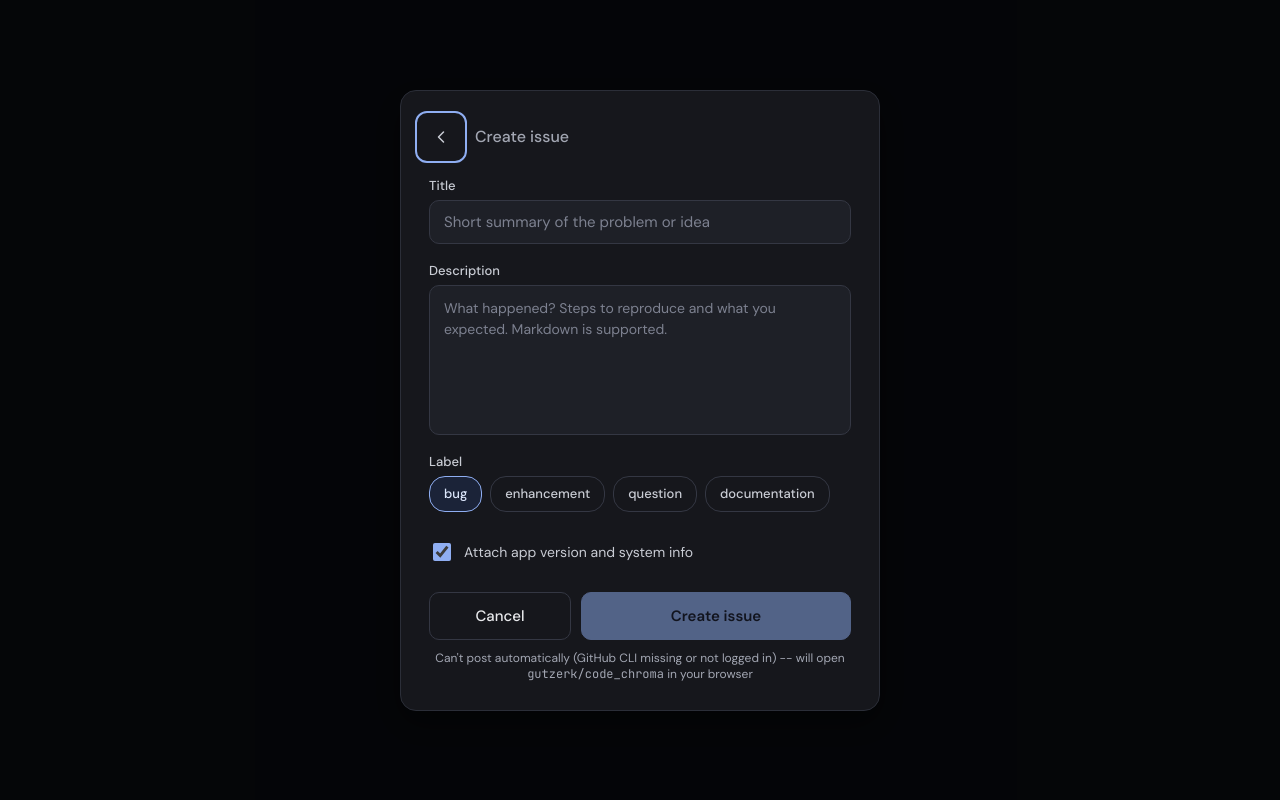
Test: CreateIssueDialog › shows a confirmation message after opening the issue
Type "Bug title" into the field labelled "Title". click: {"x": 640, "y": 222}
box: [429,200,851,244]
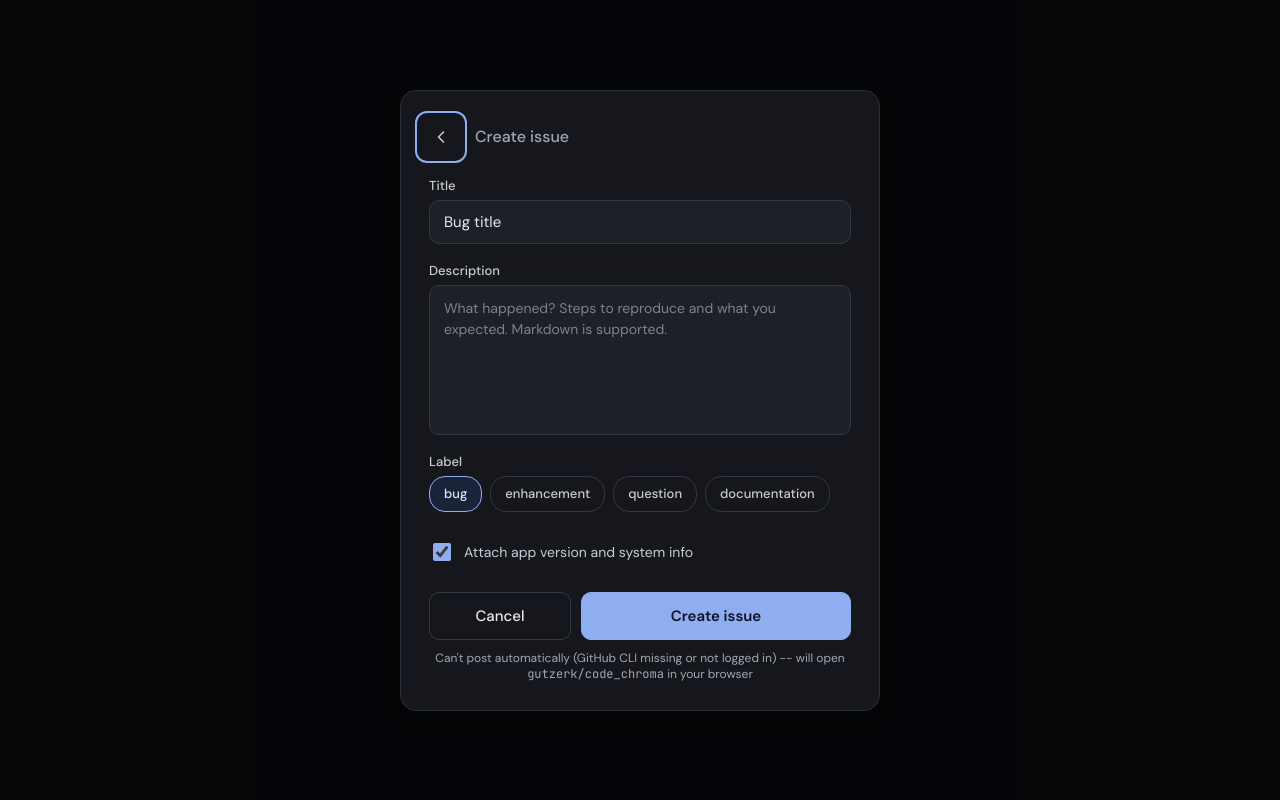
Click the button "Create issue". click: {"x": 716, "y": 616}
box: [581,592,851,640]
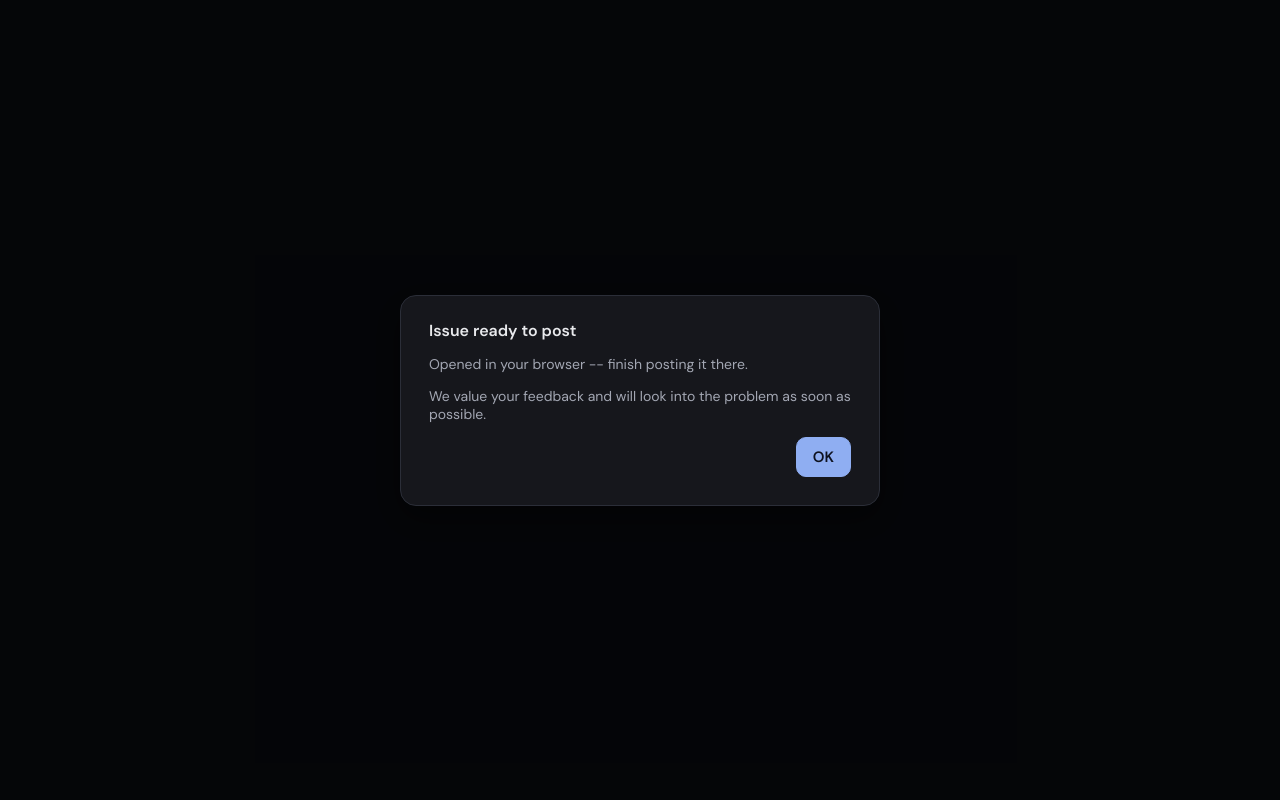
Result: the text "Opened in your browser -- finish posting it there." is shown at [429,354,748,372]
Result: the text "We value your feedback" is shown at [429,386,851,422]
Result: the label labelled "Title" is gone
